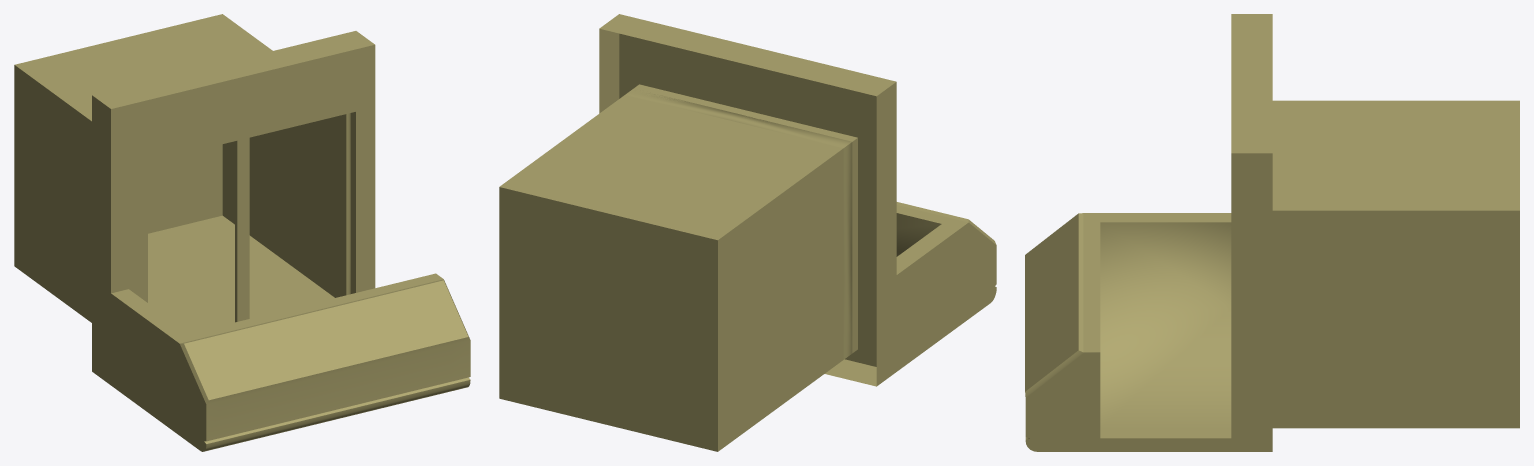
Rendered from Apartments01.fbx.
3 renders of one model, left to right at view 1: azimuth 30°, elevation 25°; view 2: azimuth 150°, elevation 25°; view 3: azimuth 270°, elevation 25°, orthographic. The views are drawn at different scales.
Visible parts, largest first — view 1: Apartments01; view 2: Apartments01; view 3: Apartments01.
Boxes of the visible parts, box(x1,y1,x2,y2) form: Apartments01: box(14, 14, 470, 451); Apartments01: box(499, 14, 996, 451); Apartments01: box(1025, 14, 1519, 451).
Bounding box in the file's own units: 400 × 400 × 600.
